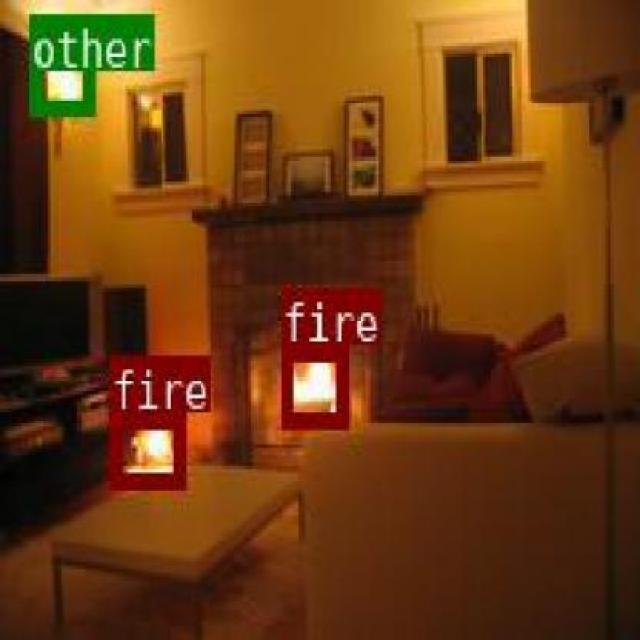Fire: (280, 343, 346, 425), (109, 412, 182, 486)
